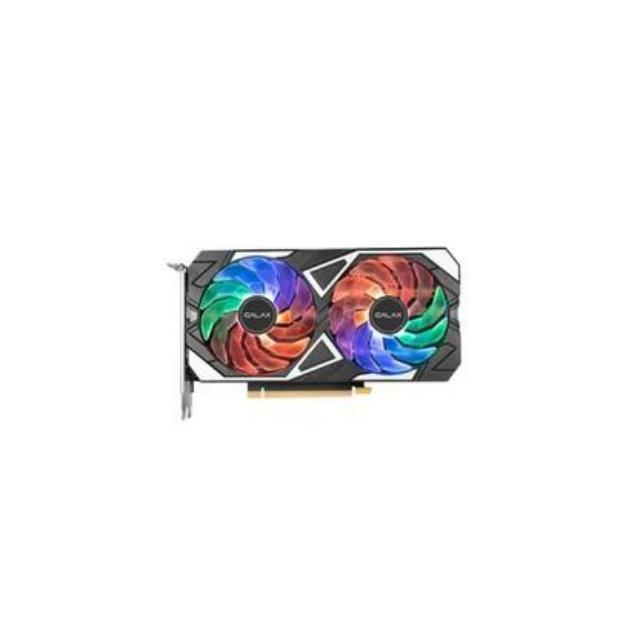GPU: (173, 240, 459, 405)
